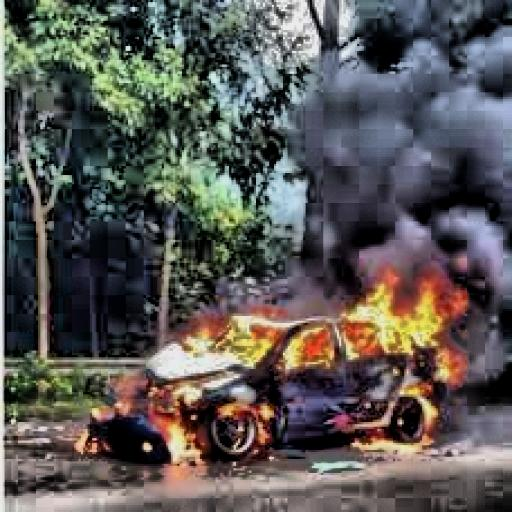fire: (74, 360, 216, 466), (175, 291, 346, 376), (348, 346, 478, 454), (341, 268, 467, 355)
